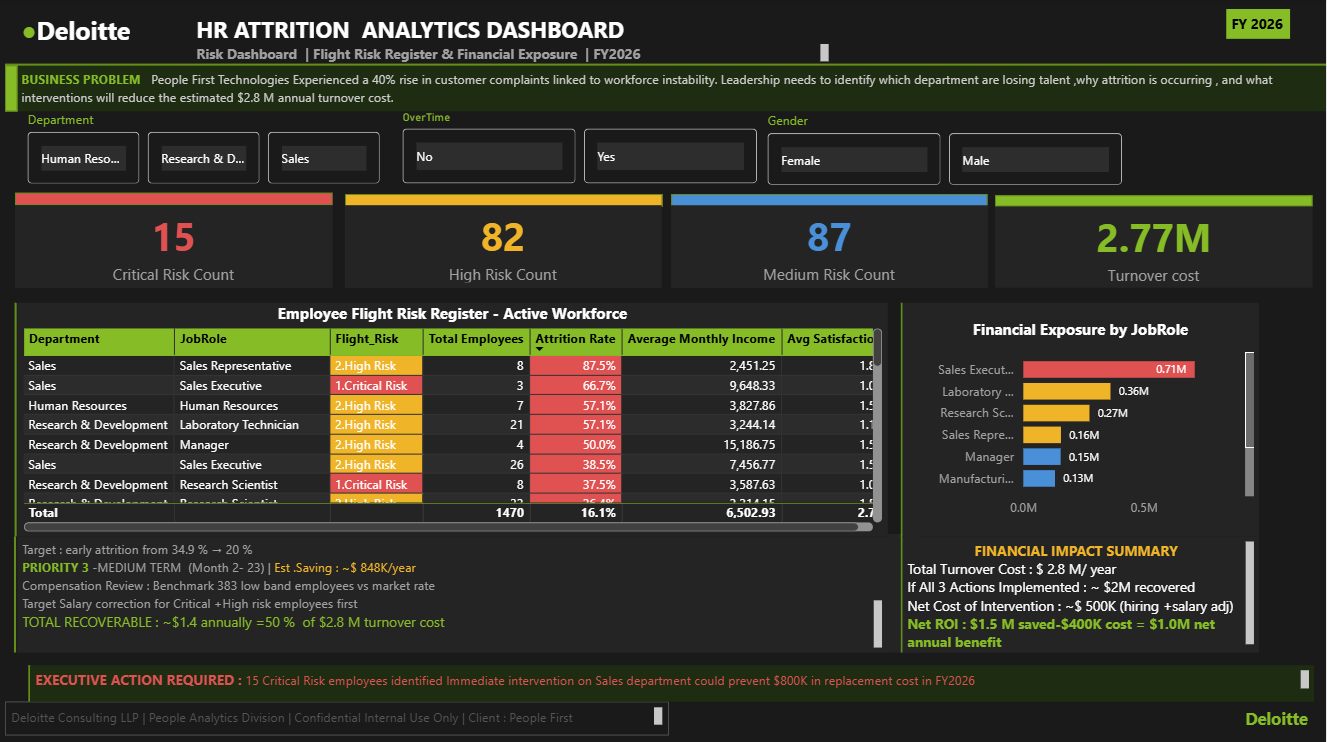

This screenshot's page, from the dashboard's own definition file:
{"tool":"powerbi","page":{"name":"Risk Dashboard","canvas":[1280,720],"ordinal":3},"visuals":[{"type":"textbox","box":[16,10,125.5,56.7],"z":0},{"type":"textbox","box":[184.6,9.7,620.1,42.2],"z":1000},{"type":"textbox","box":[184.6,38.6,620.1,27.7],"z":2000},{"type":"textbox","box":[15.7,62.7,1265,45.8],"z":3000},{"type":"shape","box":[4.8,60.3,1275.2,6],"z":4000},{"type":"shape","box":[960.3,189.4,306.4,10.9],"z":5000},{"type":"shape","box":[14,187,306.4,12.1],"z":6000},{"type":"shape","box":[647.4,188.2,305.2,12.1],"z":7000},{"type":"shape","box":[332.5,188.2,306.4,12.1],"z":8000},{"type":"shape","box":[4.8,63.9,12.1,44.6],"z":9000},{"type":"advancedSlicerVisual","fields":{"Values":["HR Attrition csv.OverTime"]},"box":[383.6,107.4,352.3,76],"z":10000},{"type":"advancedSlicerVisual","fields":{"Values":["HR Attrition csv.Department"]},"box":[21.7,107.4,352,76],"z":11000},{"type":"advancedSlicerVisual","fields":{"Values":["HR Attrition csv.Gender"]},"box":[735.9,108.6,352.3,76],"z":12000},{"type":"textbox","box":[1183.5,9.7,61.5,29],"z":13000},{"type":"shape","box":[0,678,1280,12.1],"z":14000},{"type":"textbox","box":[4.8,678,640.6,32.6],"z":15000},{"type":"textbox","box":[1196.8,678,83.2,32.6],"z":16000},{"type":"shape","box":[855.4,516.4,30.2,114.6],"z":17000},{"type":"shape","box":[8.4,518.8,12.1,112.2],"z":18000},{"type":"shape","box":[855.4,293.2,30.2,225.6],"z":19000},{"type":"shape","box":[1.2,293.2,27.7,225.6],"z":20000},{"type":"shape","box":[13.3,643,30.2,35],"z":21000},{"type":"card","title":"CRITICAL RISK EMPLOYEES","fields":{"Values":["HR Attrition csv.Critical Risk Count"]},"box":[14,199.1,306.4,79.6],"z":22000},{"type":"card","fields":{"Values":["HR Attrition csv.High Risk Count"]},"box":[332.5,199.1,305.2,79.6],"z":23000},{"type":"card","fields":{"Values":["HR Attrition csv.Medium Risk Count"]},"box":[647.9,199.1,305.2,79.6],"z":24000},{"type":"card","fields":{"Values":["HR Attrition csv.Turnover cost"]},"box":[960.3,200.3,306.4,78.4],"z":25000},{"type":"tableEx","title":"Employee Flight Risk Register - Active Workforce","fields":{"Values":["HR Attrition csv.Department","HR Attrition csv.JobRole","HR Attrition csv.Flight_Risk","HR Attrition csv.Total Employees","HR Attrition csv.Attrition Rate","HR Attrition csv.Average Monthly Income","HR Attrition csv.Avg Satisfaction"]},"box":[16.9,293.2,839.7,225.6],"z":26000},{"type":"clusteredBarChart","title":"Financial Exposure by JobRole","fields":{"Category":["HR Attrition csv.JobRole"],"Y":["HR Attrition csv.Turnover cost"]},"box":[871.1,293.2,343.8,225.6],"z":27000},{"type":"textbox","box":[16.9,518.8,839.7,112.2],"z":28000},{"type":"textbox","box":[29,643,1239,35],"z":29000},{"type":"textbox","box":[871.1,518.8,343.8,112.2],"z":30000}]}

Visuals, with their boxes in screenshot pixels (x1, y1, x2, y2), scaled from the page's 1280x720 canvas onto the 1327x742 screenshot:
textbox: bbox=[17, 10, 147, 69]
textbox: bbox=[191, 10, 834, 53]
textbox: bbox=[191, 40, 834, 68]
textbox: bbox=[16, 65, 1326, 112]
shape: bbox=[5, 62, 1326, 68]
shape: bbox=[996, 195, 1313, 206]
shape: bbox=[15, 193, 332, 205]
shape: bbox=[671, 194, 988, 206]
shape: bbox=[345, 194, 662, 206]
shape: bbox=[5, 66, 18, 112]
advancedSlicerVisual - HR Attrition csv.OverTime: bbox=[398, 111, 763, 189]
advancedSlicerVisual - HR Attrition csv.Department: bbox=[22, 111, 387, 189]
advancedSlicerVisual - HR Attrition csv.Gender: bbox=[763, 112, 1128, 190]
textbox: bbox=[1227, 10, 1291, 40]
shape: bbox=[0, 699, 1326, 711]
textbox: bbox=[5, 699, 669, 732]
textbox: bbox=[1241, 699, 1326, 732]
shape: bbox=[887, 532, 918, 650]
shape: bbox=[9, 535, 21, 650]
shape: bbox=[887, 302, 918, 535]
shape: bbox=[1, 302, 30, 535]
shape: bbox=[14, 663, 45, 699]
"CRITICAL RISK EMPLOYEES" card: bbox=[15, 205, 332, 287]
card - HR Attrition csv.High Risk Count: bbox=[345, 205, 661, 287]
card - HR Attrition csv.Medium Risk Count: bbox=[672, 205, 988, 287]
card - HR Attrition csv.Turnover cost: bbox=[996, 206, 1313, 287]
"Employee Flight Risk Register - Active Workforce" tableEx: bbox=[18, 302, 888, 535]
"Financial Exposure by JobRole" clusteredBarChart: bbox=[903, 302, 1260, 535]
textbox: bbox=[18, 535, 888, 650]
textbox: bbox=[30, 663, 1315, 699]
textbox: bbox=[903, 535, 1260, 650]
